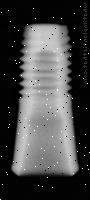DENTSPLY: (11, 22, 80, 176)
